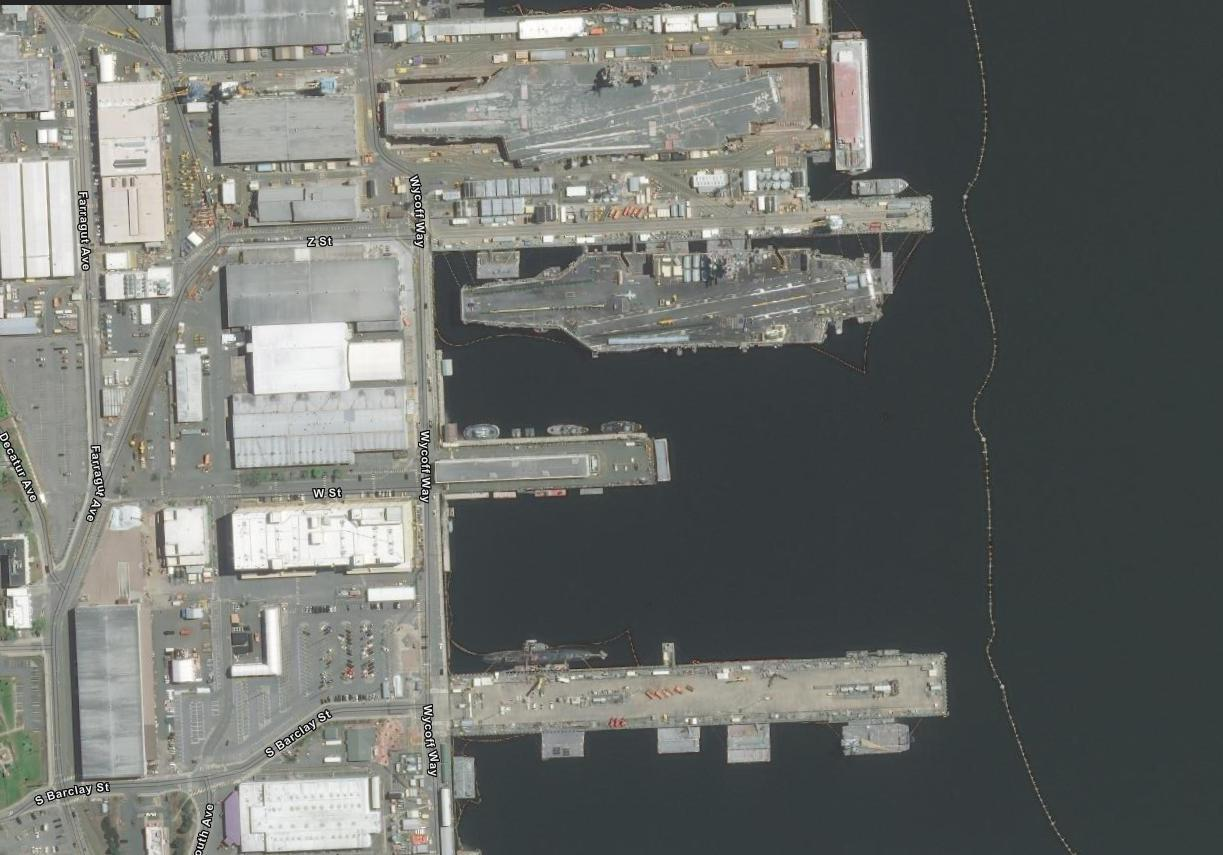carrier: (454, 241, 942, 367), (376, 43, 789, 171)
submarine: (467, 632, 641, 672)
